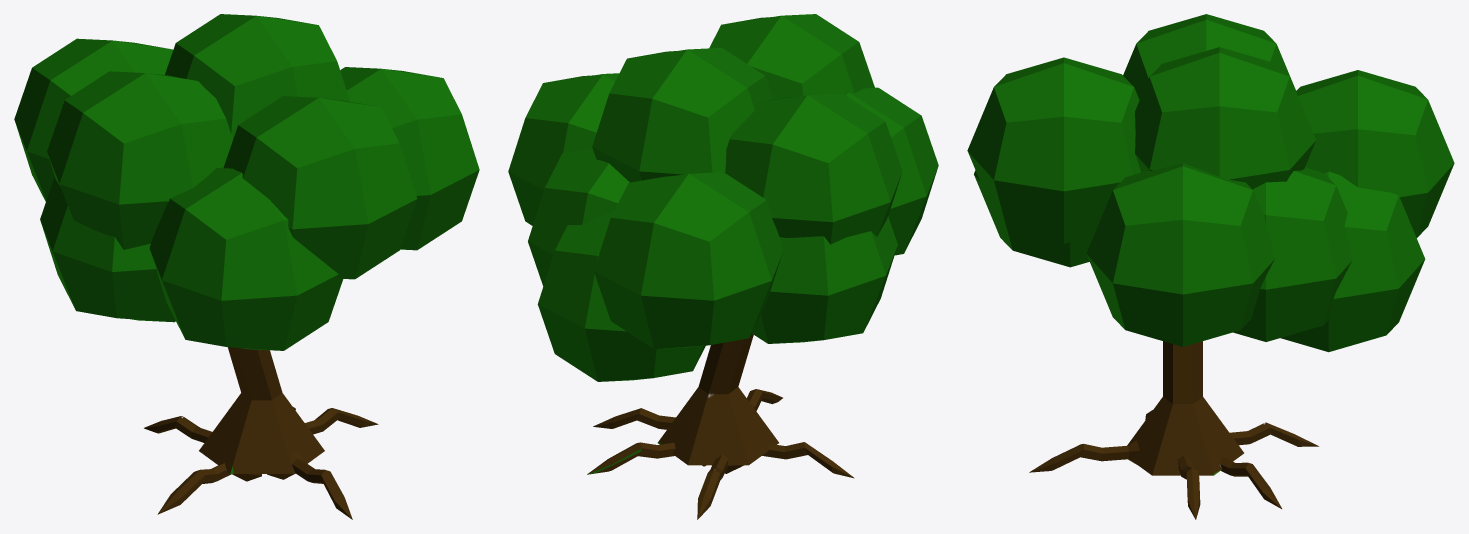
Rendered from treeevilrootsfixedorigin.glb.
The picture shows the model from 3 angles, left to right: view 1: azimuth 30°, elevation 25°; view 2: azimuth 150°, elevation 25°; view 3: azimuth 270°, elevation 25°; orthographic projection. The views are drawn at different scales.
Visible parts, largest first — view 1: Cylinder; view 2: Cylinder; view 3: Cylinder.
Part boxes in pixels (<box>): Cylinder: <box>14,14,479,519</box>; Cylinder: <box>508,14,938,519</box>; Cylinder: <box>967,14,1454,519</box>.
Bounding box in the file's own units: 7.25 × 7.72 × 7.92.
1 material, 1 textured.
